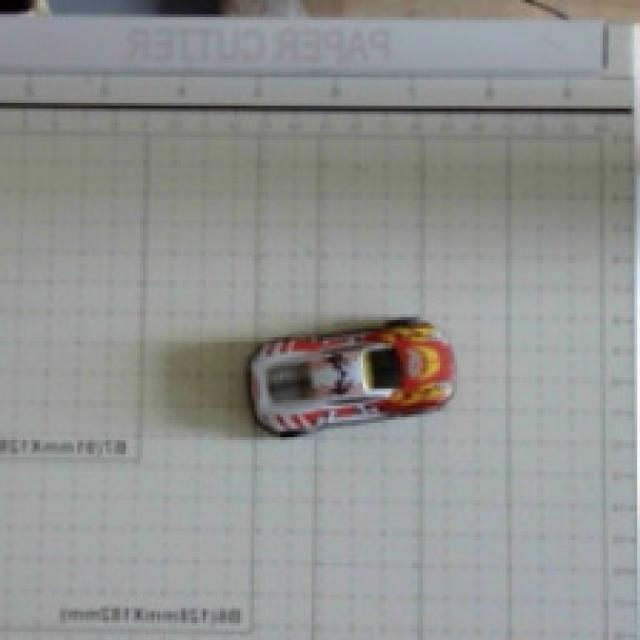Red Car: (213, 296, 494, 480)
